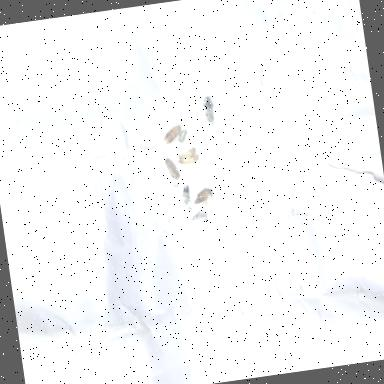pbw: (176, 147, 200, 171), (184, 188, 214, 206), (162, 124, 182, 144), (164, 157, 180, 181)
